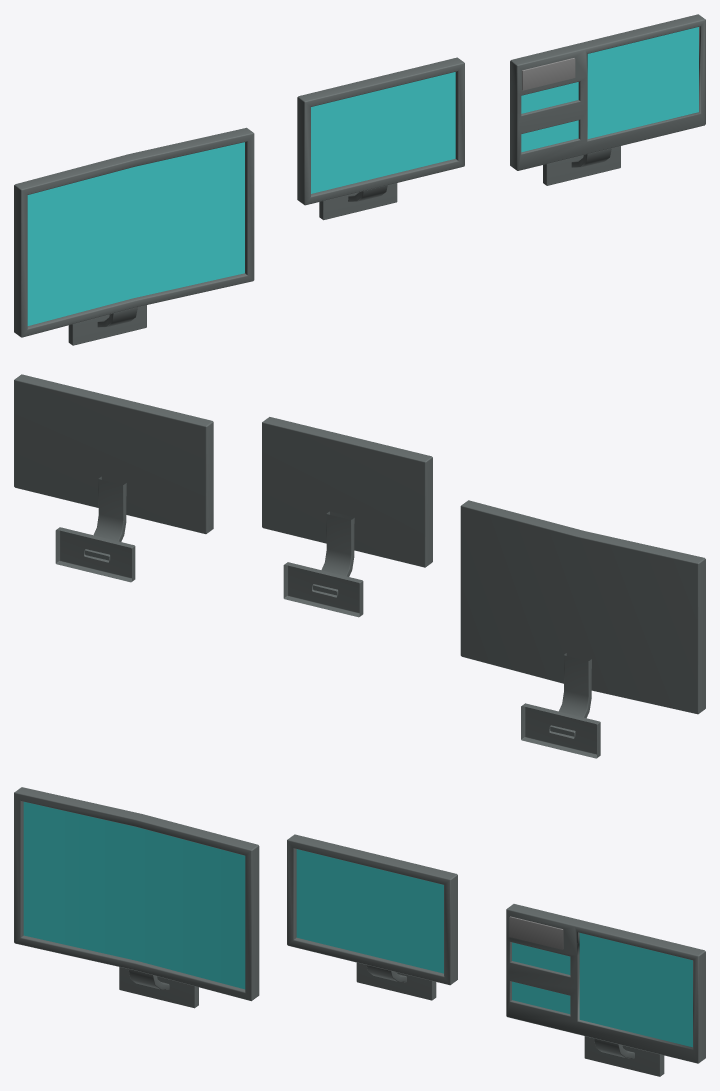
Rendered from Screens.fbx.
3 renders of one model, top to bottom at view 1: azimuth 30°, elevation 25°; view 2: azimuth 150°, elevation 25°; view 3: azimuth 330°, elevation 25°, orthographic.
Parts seen in each view (by area): view 1: Big_scrren, Medium_scrren, Small_scrren; view 2: Big_scrren, Medium_scrren, Small_scrren; view 3: Big_scrren, Medium_scrren, Small_scrren.
Boxes of the visible parts, x1,y1,x2,y2 form: Big_scrren: (14,127,254,345); Medium_scrren: (510,14,705,185); Small_scrren: (297,57,464,220); Big_scrren: (460,500,705,758); Medium_scrren: (14,374,213,582); Small_scrren: (262,417,432,617); Big_scrren: (14,787,259,1008); Medium_scrren: (506,904,705,1076); Small_scrren: (287,834,457,1000).
Bounding box in the file's own units: 9.09 × 2.83 × 0.8745.
